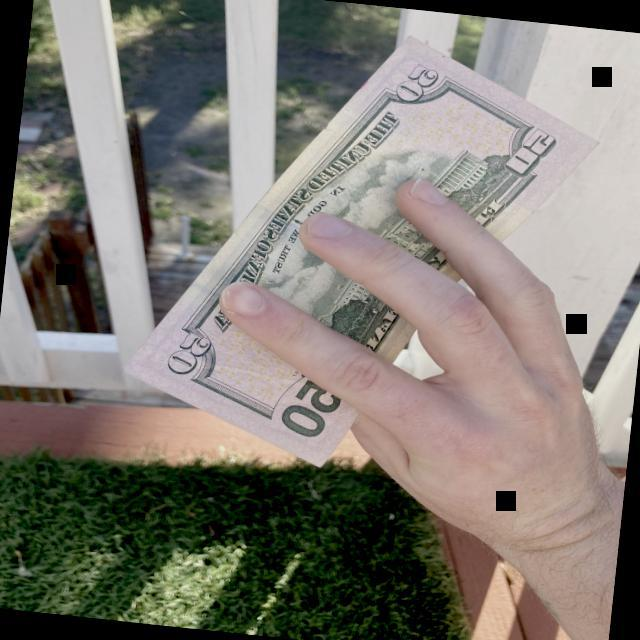fifty: (117, 33, 600, 470)
